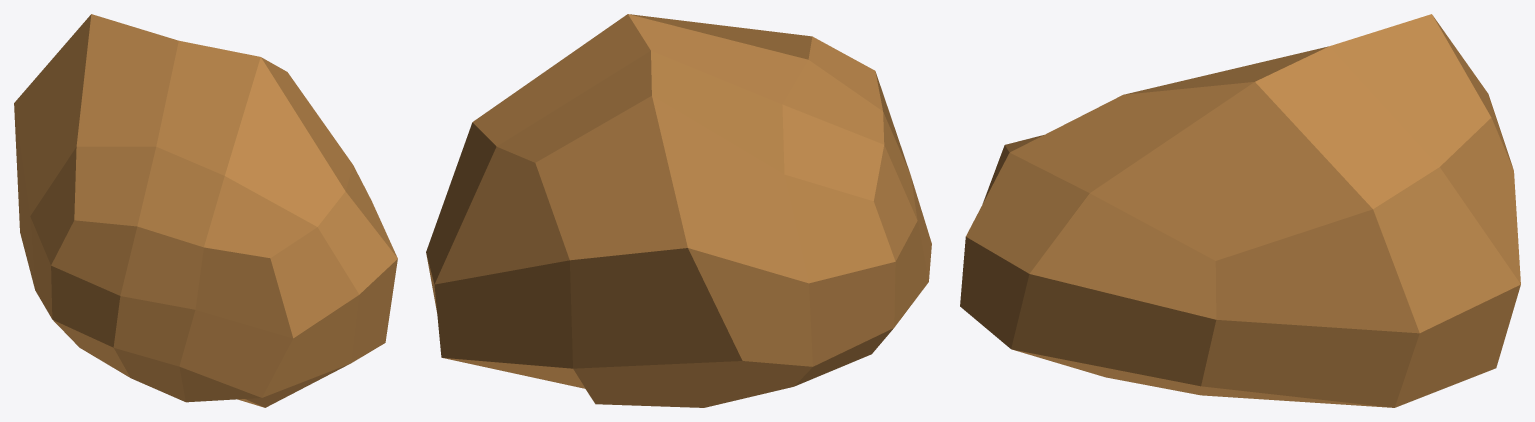
The model's file is BiggerBoulder.fbx.
3 views of the same model, side by side, from view 1: azimuth 30°, elevation 25°; view 2: azimuth 150°, elevation 25°; view 3: azimuth 270°, elevation 25° (orthographic). The views are drawn at different scales.
Visible parts, largest first — view 1: BiggerBoulder; view 2: BiggerBoulder; view 3: BiggerBoulder.
Boxes of the visible parts, x1,y1,x2,y2 form: BiggerBoulder: (14, 14, 397, 407); BiggerBoulder: (426, 14, 931, 407); BiggerBoulder: (960, 14, 1520, 407).
Bounding box in the file's own units: 9.52 × 8.37 × 12.64.
